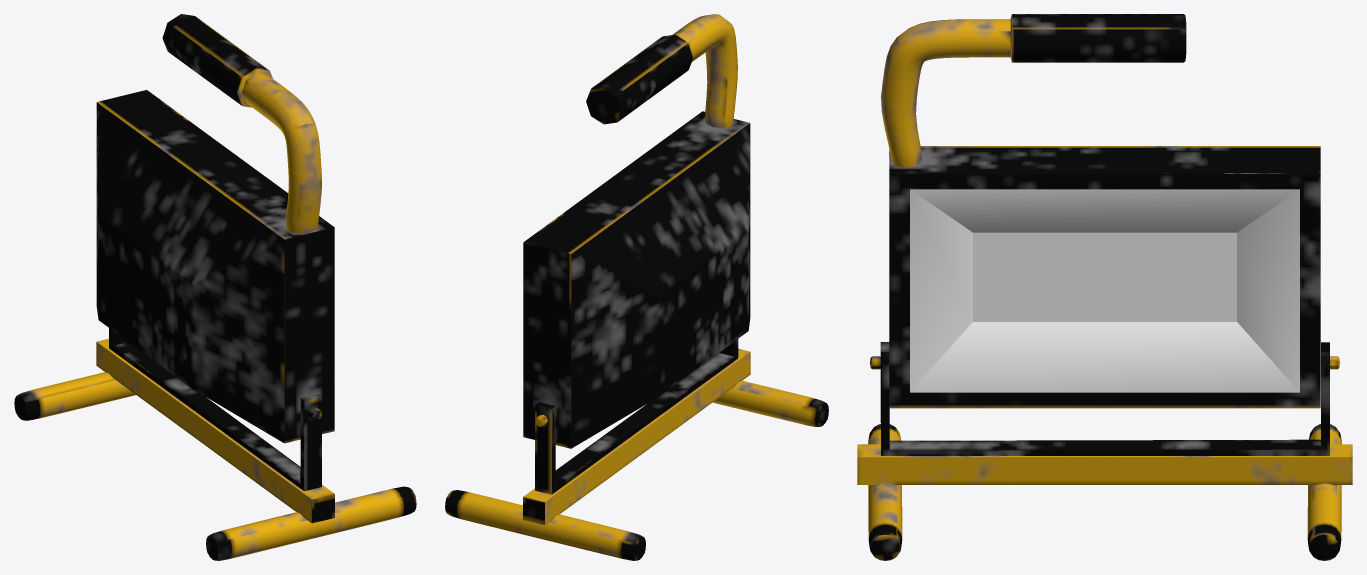
The model's file is LEDsmall (1).fbx.
3 views of the same model, side by side, from view 1: azimuth 30°, elevation 25°; view 2: azimuth 150°, elevation 25°; view 3: azimuth 270°, elevation 25° (orthographic). The views are drawn at different scales.
Parts seen in each view (by area): view 1: пекладина; view 2: пекладина; view 3: пекладина.
Part boxes in pixels (x1,y1,x2,y2): пекладина: [14, 14, 416, 560]; пекладина: [445, 14, 828, 560]; пекладина: [857, 14, 1352, 560].
Bounding box in the file's own units: 246 × 499 × 455.
2 materials, 1 textured.
